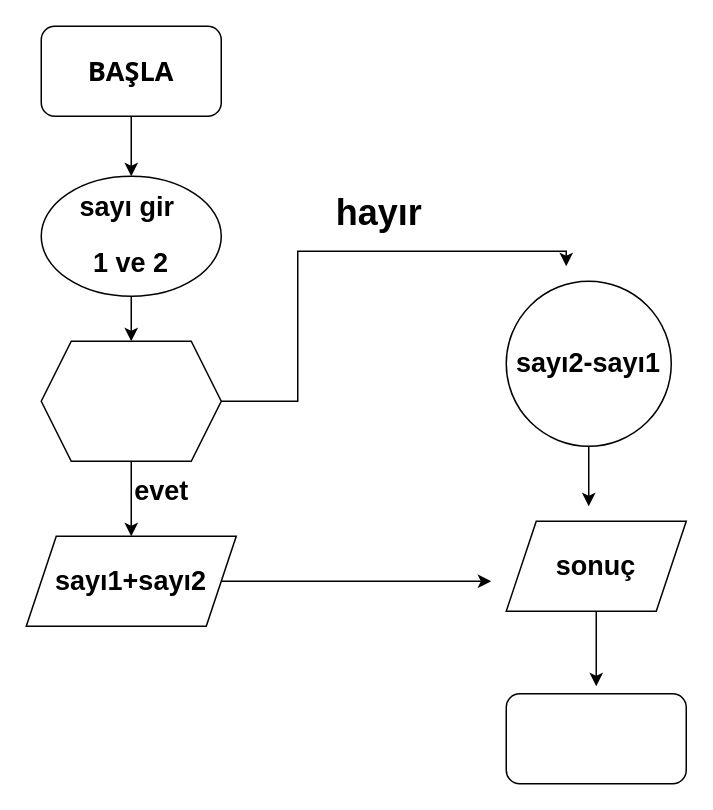
The diagram is 713 pixels wide and 810 high, and some of its shapes have lost their labels. The centre of each missing label's shape, as x and y in pixels:
BİTİR: point 595,738
sayı1>sayı2: point 130,400
